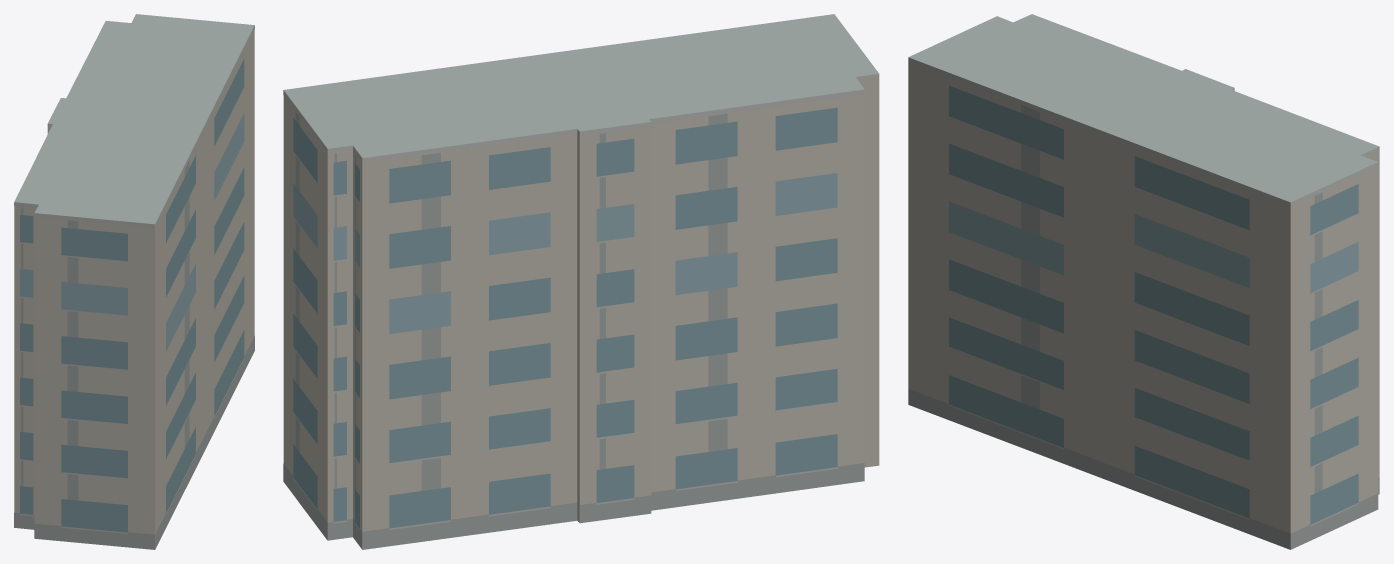
Rendered from survey-upis-33009725.glb.
The picture shows the model from 3 angles, left to right: view 1: azimuth 30°, elevation 25°; view 2: azimuth 150°, elevation 25°; view 3: azimuth 270°, elevation 25°; orthographic projection. The views are drawn at different scales.
Visible parts, largest first — view 1: survey-upis-33009725.tmp; view 2: survey-upis-33009725.tmp; view 3: survey-upis-33009725.tmp.
Part boxes in pixels (box(x1,y1,x2,y2)): survey-upis-33009725.tmp: box(14, 14, 254, 549); survey-upis-33009725.tmp: box(283, 14, 879, 549); survey-upis-33009725.tmp: box(908, 14, 1379, 549).
Size of the model in its own units: 21.29 by 18.3 by 22.51.
